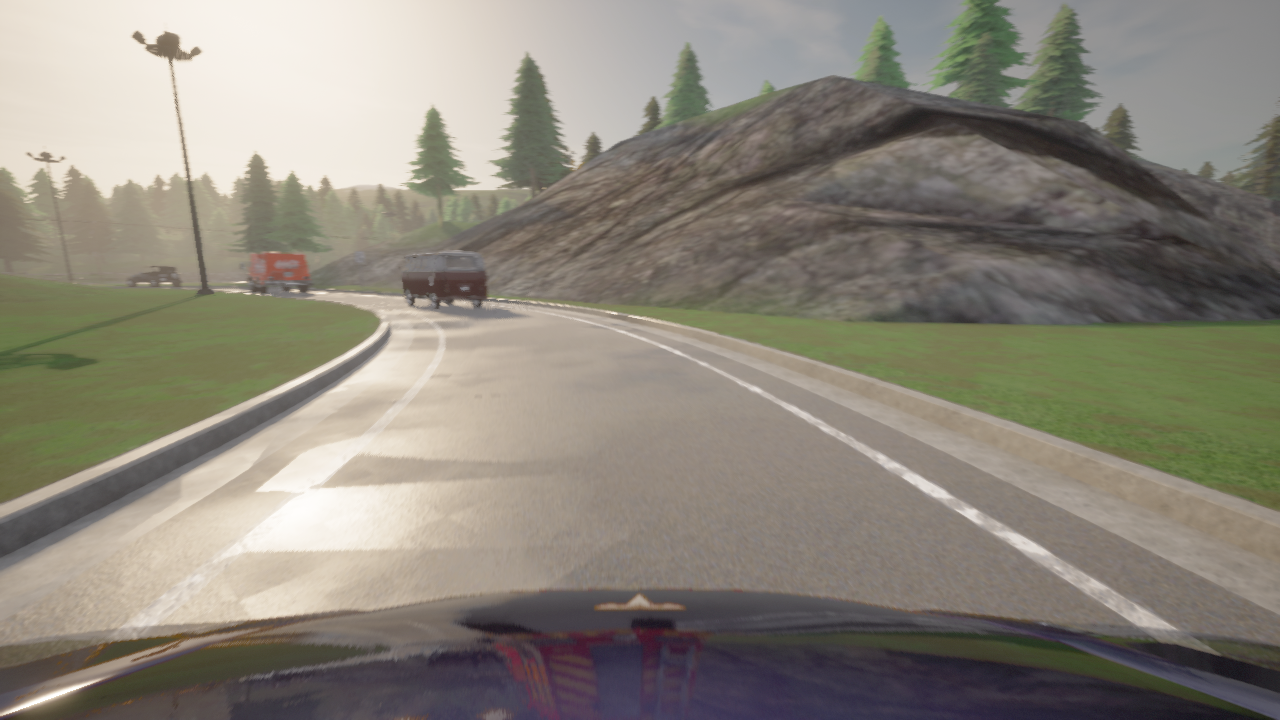cyclist: (0, 588, 1279, 719), (398, 251, 487, 309), (241, 252, 311, 293), (125, 265, 183, 287)
